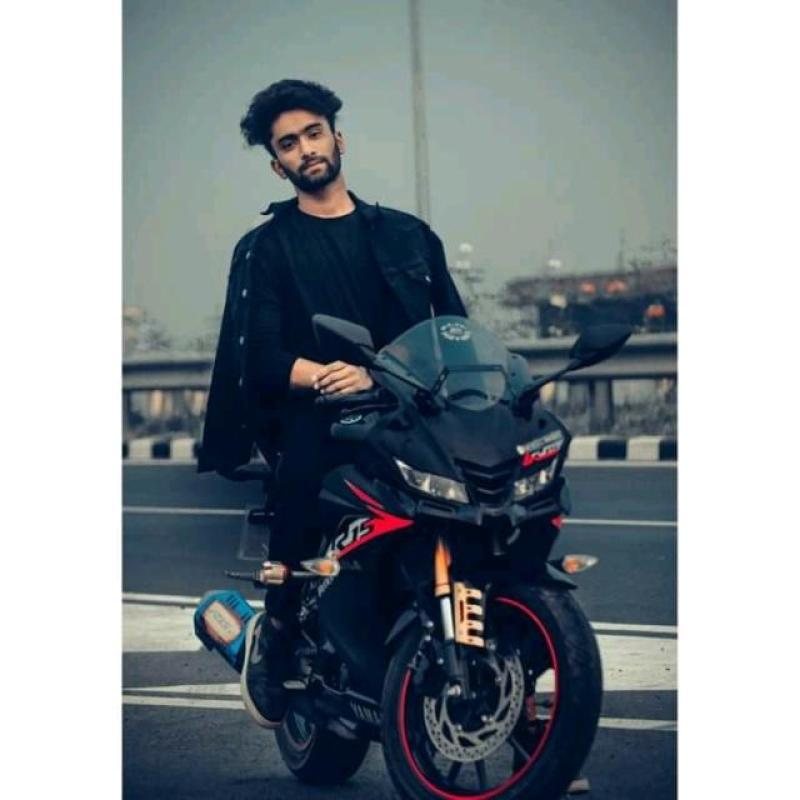nohelmet: (228, 76, 364, 206)
